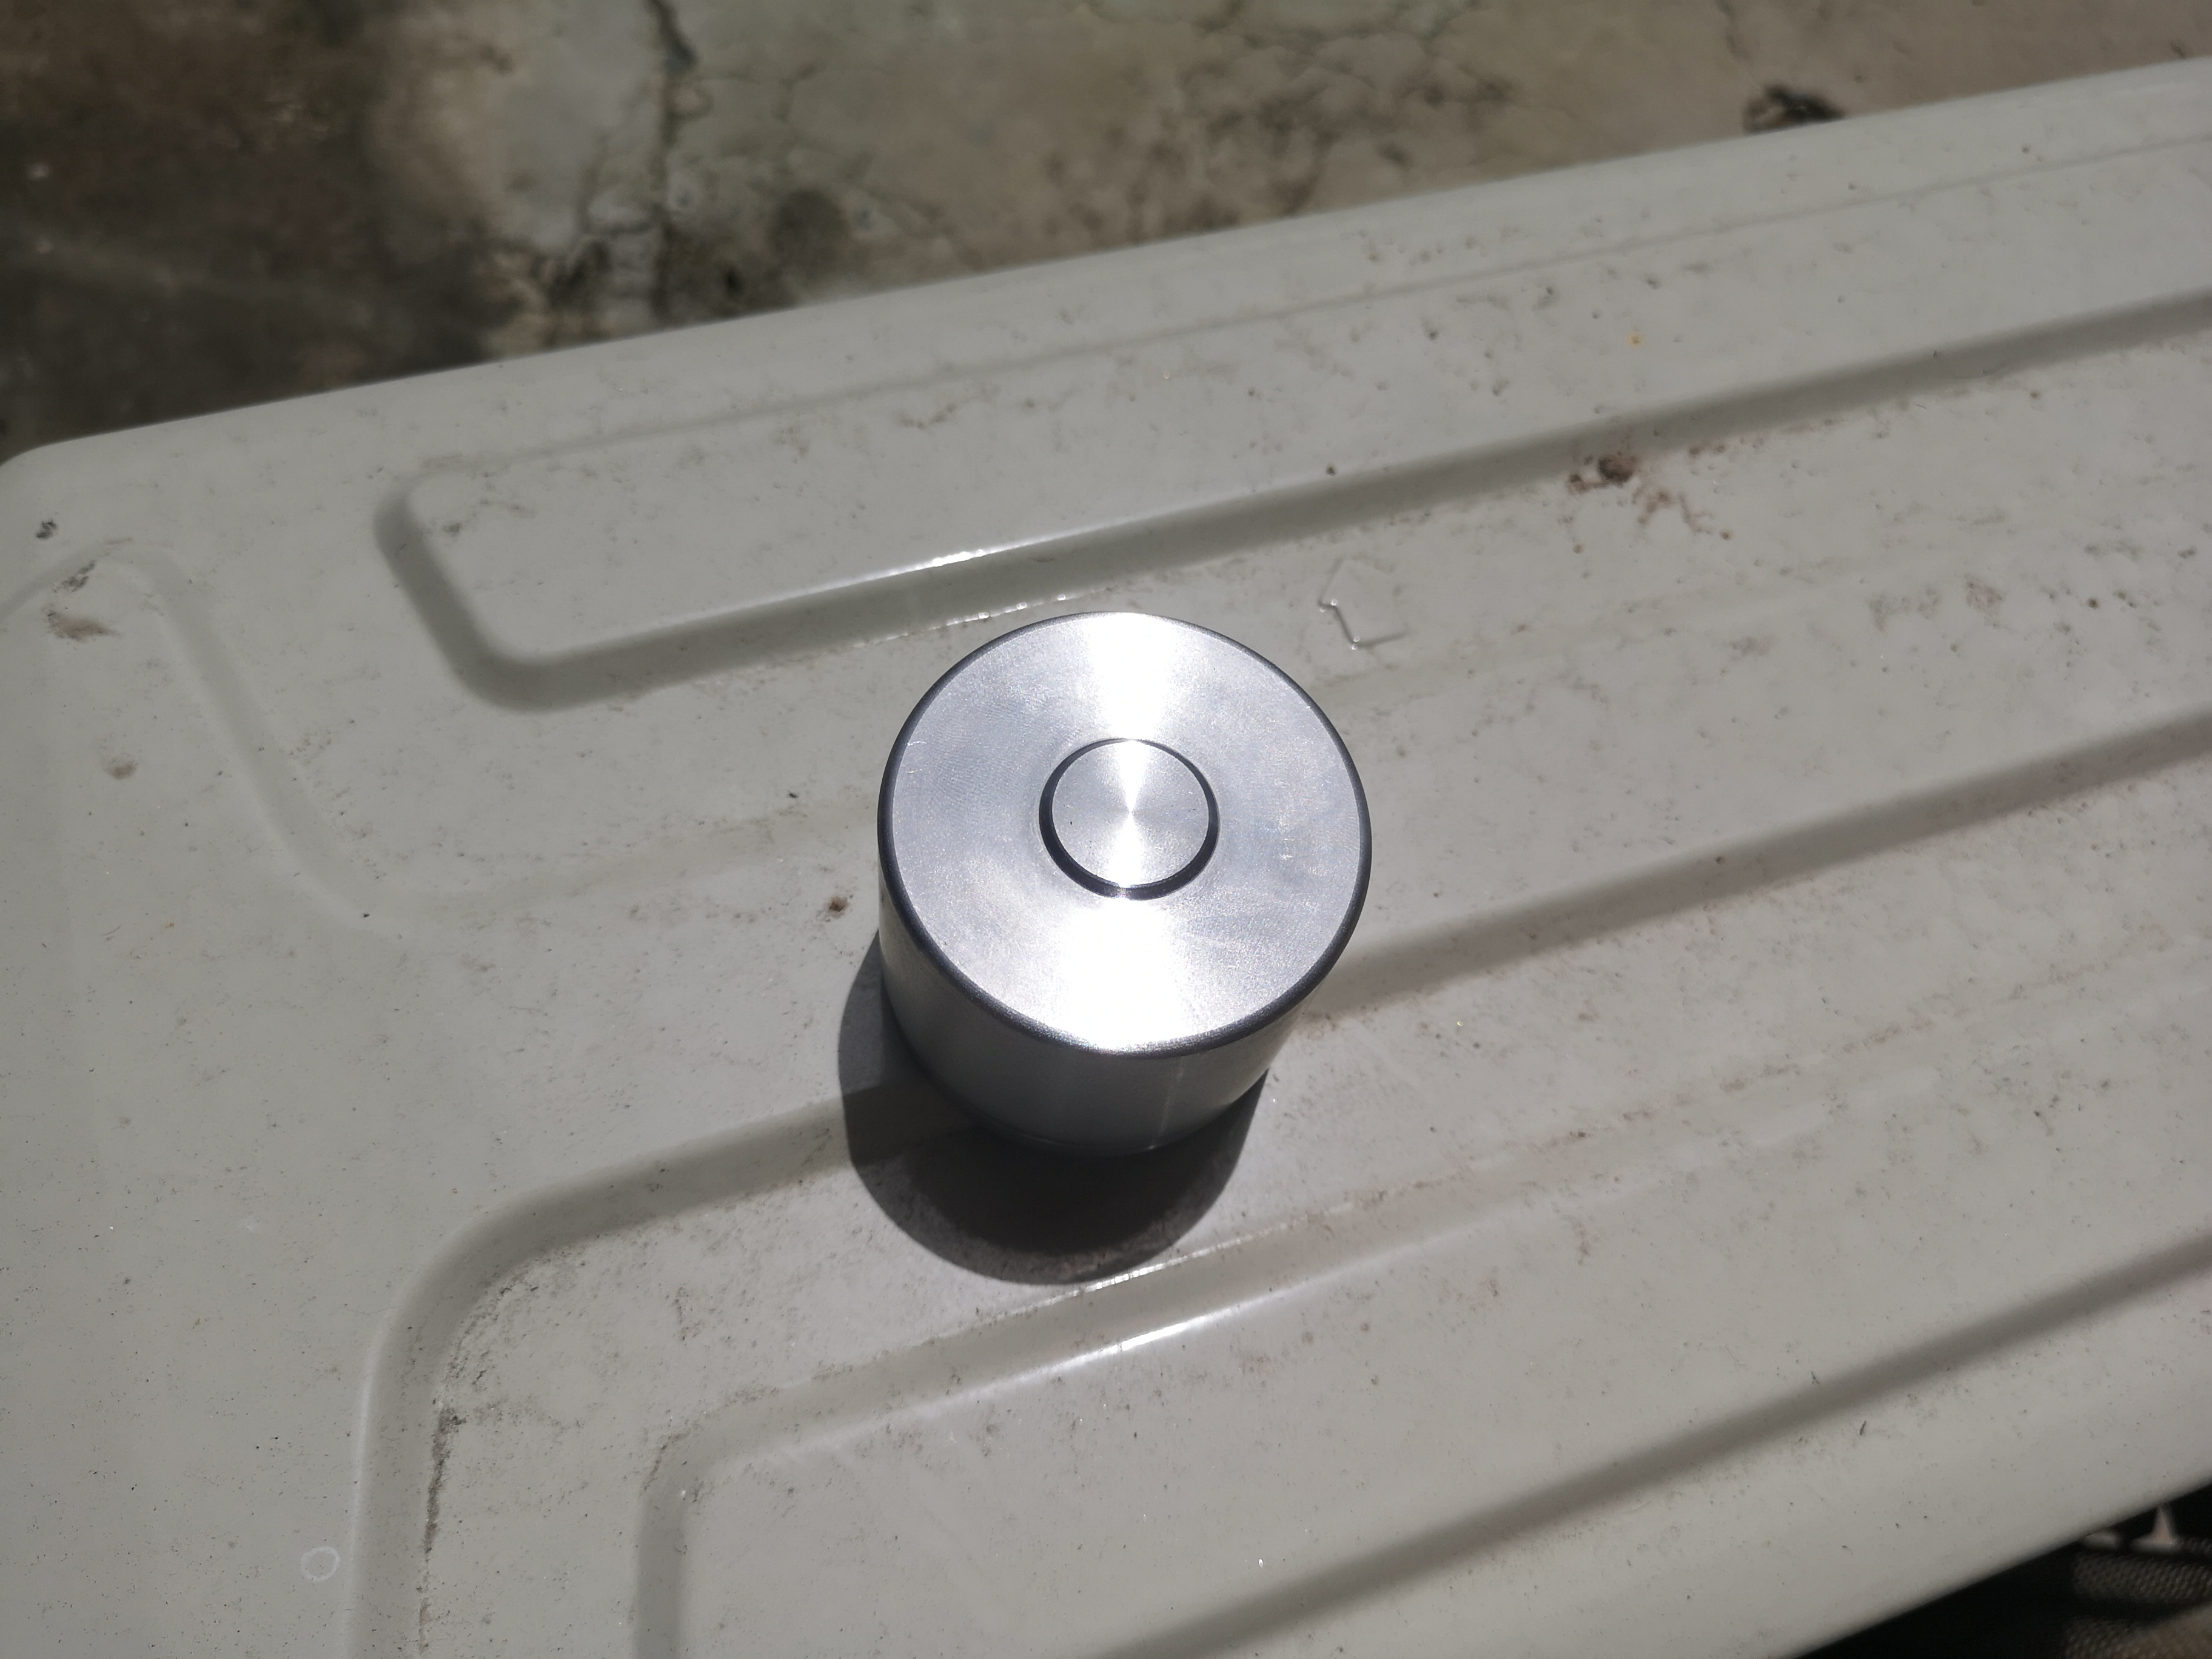ลูกสูบดิสเบรค: (852, 579, 1440, 1168)
